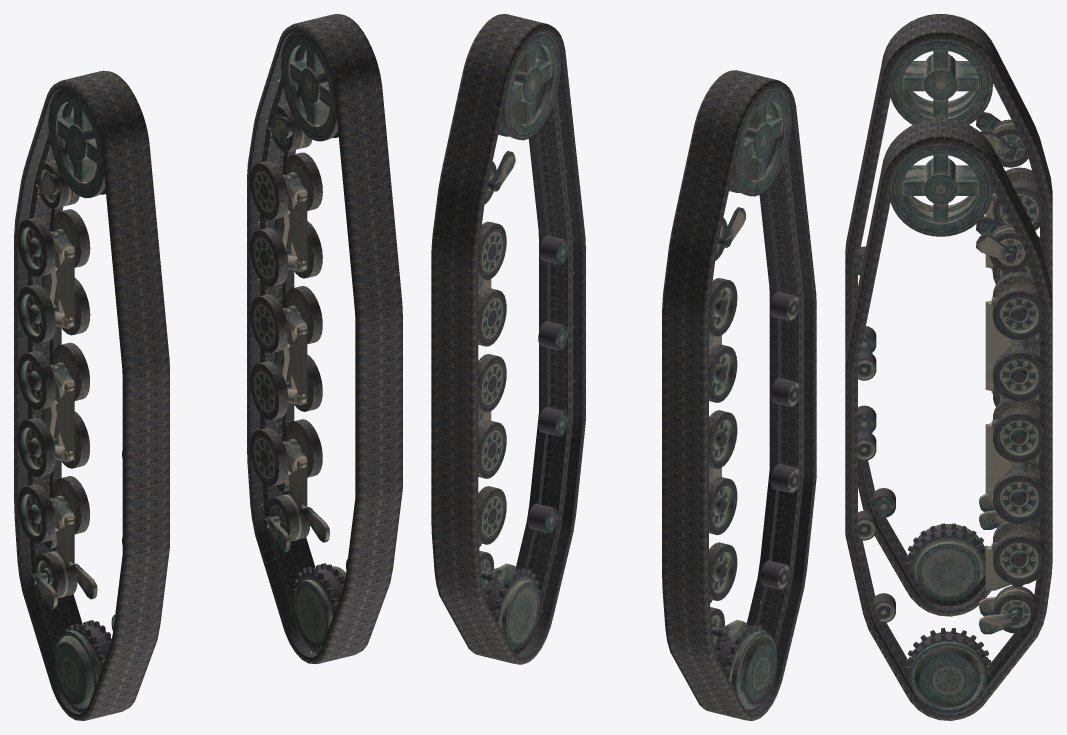
The model's file is Chassis.glb.
3 renders of one model, left to right at view 1: azimuth 30°, elevation 25°; view 2: azimuth 150°, elevation 25°; view 3: azimuth 270°, elevation 25°, orthographic. The views are drawn at different scales.
Parts seen in each view (by area): view 1: set_0_group_0, set_1_group_0, set_2_group_0, set_3_group_0; view 2: set_0_group_0, set_1_group_0, set_2_group_0, set_3_group_0; view 3: set_3_group_0, set_0_group_0, set_2_group_0, set_1_group_0.
Part boxes in pixels (left/top/right/bottom): set_0_group_0: left=247, top=14, right=402, bottom=664; set_1_group_0: left=14, top=70, right=169, bottom=720; set_2_group_0: left=17, top=88, right=122, bottom=712; set_3_group_0: left=250, top=31, right=347, bottom=648; set_0_group_0: left=431, top=14, right=585, bottom=664; set_1_group_0: left=662, top=70, right=816, bottom=720; set_2_group_0: left=709, top=87, right=798, bottom=713; set_3_group_0: left=478, top=31, right=567, bottom=649; set_3_group_0: left=858, top=143, right=1045, bottom=712; set_0_group_0: left=845, top=118, right=1052, bottom=720; set_2_group_0: left=858, top=39, right=1045, bottom=601; set_1_group_0: left=845, top=14, right=1052, bottom=616.
Bounding box in the file's own units: 2.54 × 5.53 × 1.78.
Materials: 4 (4 with a texture image).
